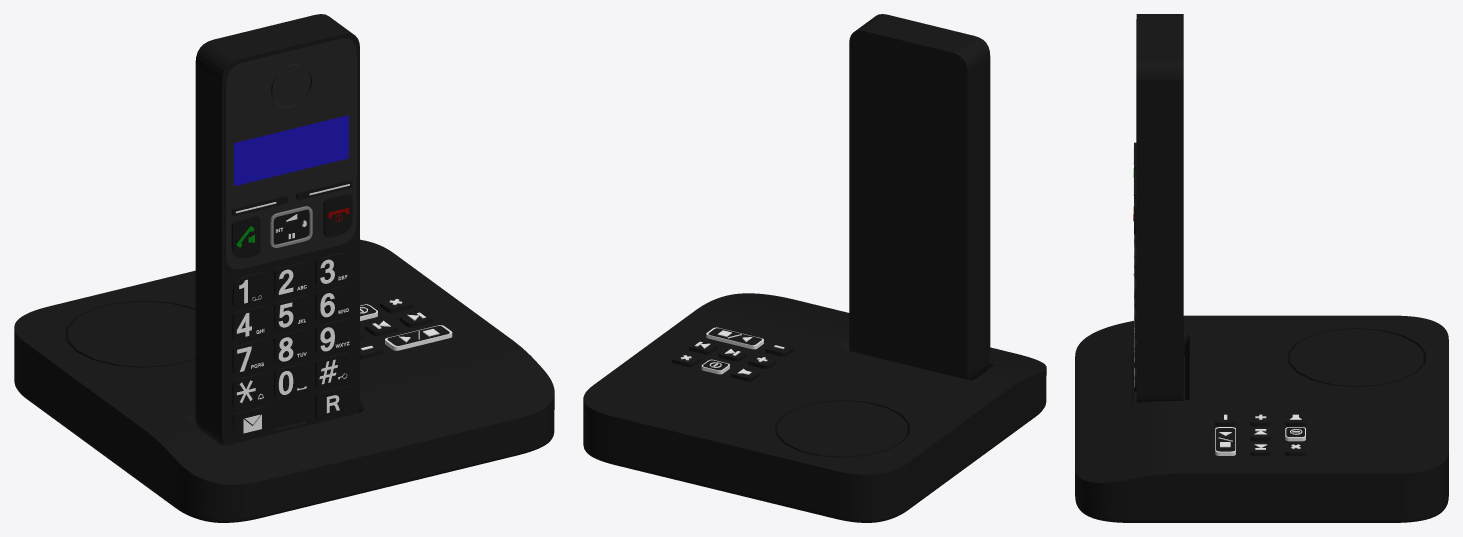
File: phone.FBX
3 views of the same model, side by side, from view 1: azimuth 30°, elevation 25°; view 2: azimuth 150°, elevation 25°; view 3: azimuth 270°, elevation 25° (orthographic). The views are drawn at different scales.
Visible parts, largest first — view 1: Box029, Box002, Box004, Box005, Box008, Box009, Box018, Box021, Box027, Box024, Box028, Box016 (+9 smaller); view 2: Box029, Box002; view 3: Box029, Box002.
Part boxes in pixels (box(x1,y1,x2,y2)): Box029: box(14, 239, 554, 522); Box002: box(195, 14, 359, 445); Box004: box(225, 38, 356, 269); Box005: box(234, 115, 348, 186); Box008: box(323, 193, 352, 237); Box009: box(231, 216, 260, 258); Box018: box(232, 372, 268, 408); Box021: box(232, 339, 268, 375); Box027: box(232, 271, 268, 307); Box024: box(232, 305, 268, 341); Box028: box(273, 209, 309, 244); Box016: box(315, 352, 350, 388); Box029: box(583, 293, 1046, 522); Box002: box(849, 14, 990, 380); Box029: box(1075, 315, 1448, 522); Box002: box(1136, 14, 1183, 402).
Bounding box in the file's own units: 80 × 89.66 × 80.
